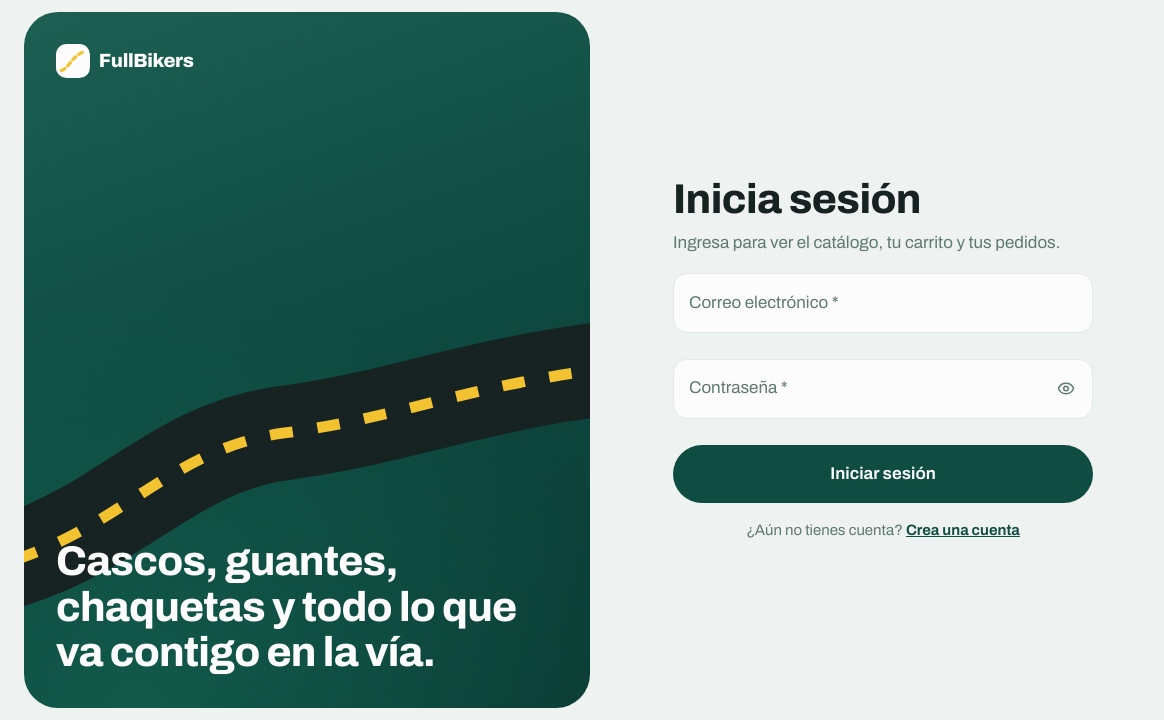
Test case: autenticación › muestra el error de credenciales sin salir del login
Type "ana@ejemplo.com" into the field labelled "Correo electrónico *" at (883, 303), box top-left (673, 273), bottom-right (1093, 333)
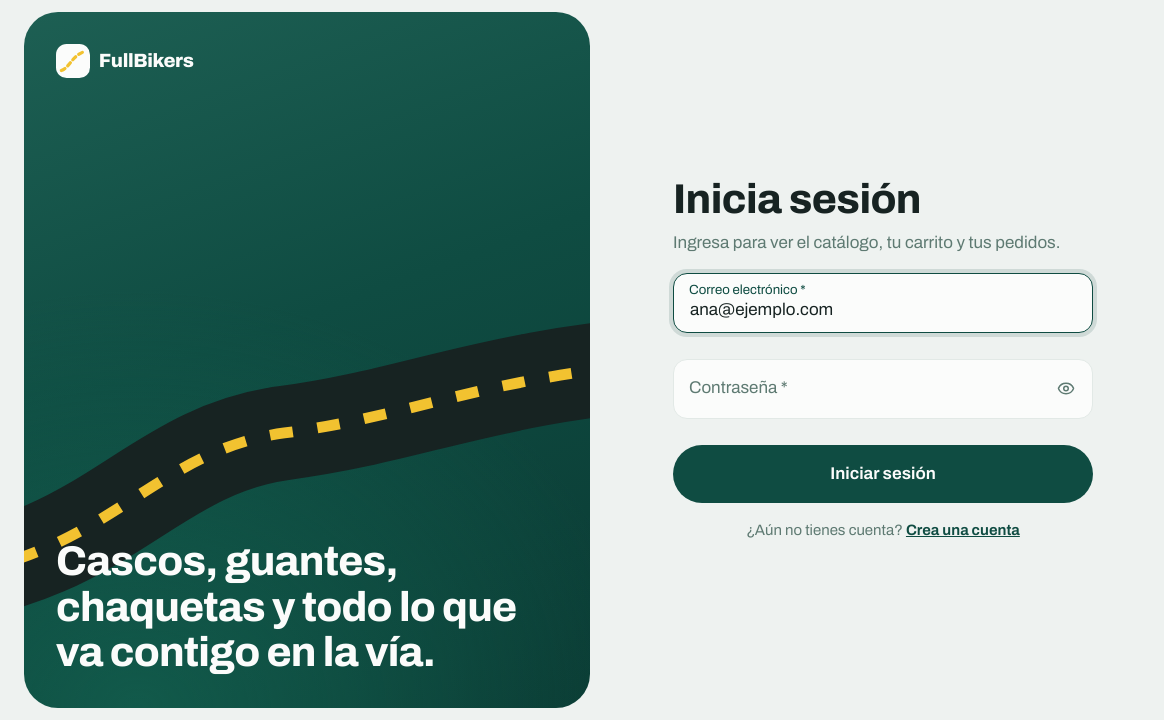
Type "Mala1234" into the password field labelled "Contraseña *" at (883, 389), box top-left (673, 359), bottom-right (1093, 419)
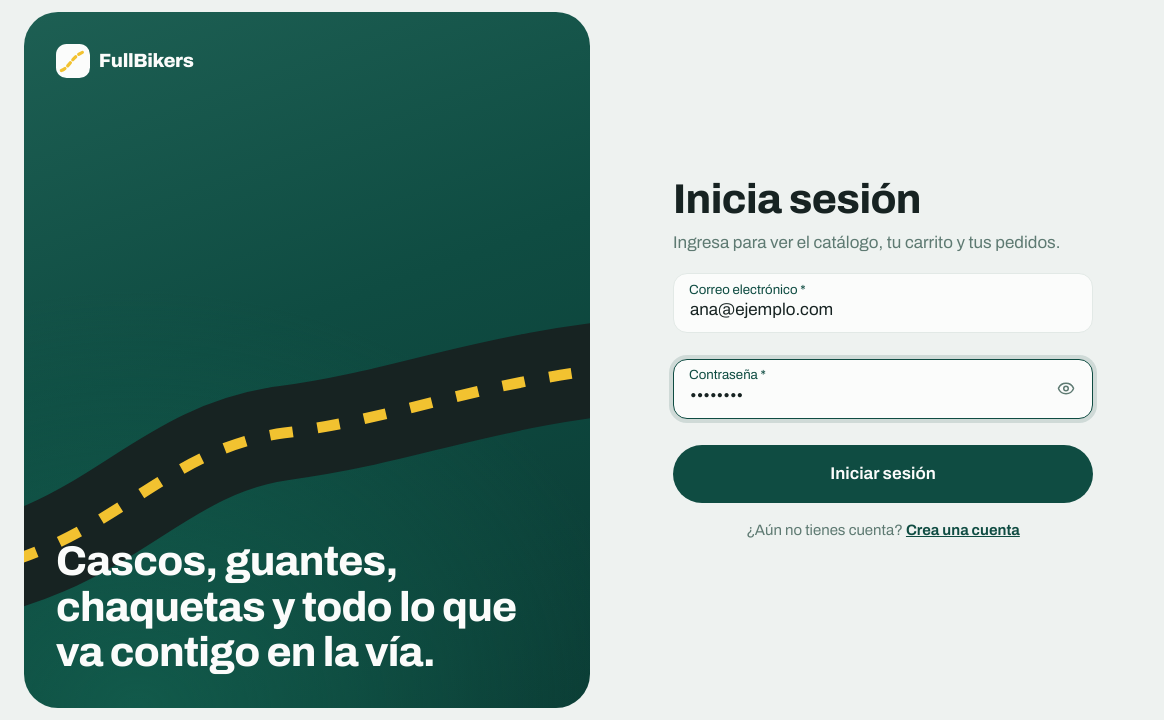
Click the button "Iniciar sesión" at (883, 474), box top-left (673, 445), bottom-right (1093, 503)
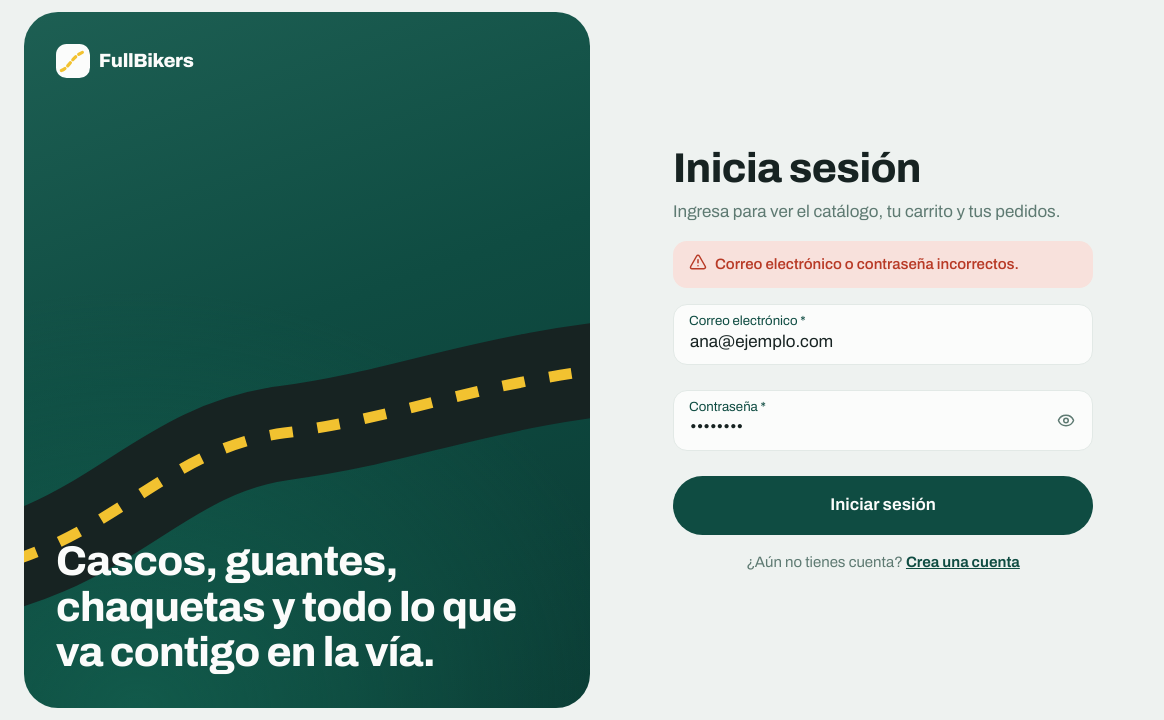
expect the message reads "Correo electrónico o contraseña incorrectos.": met, box top-left (715, 256), bottom-right (1019, 272)
